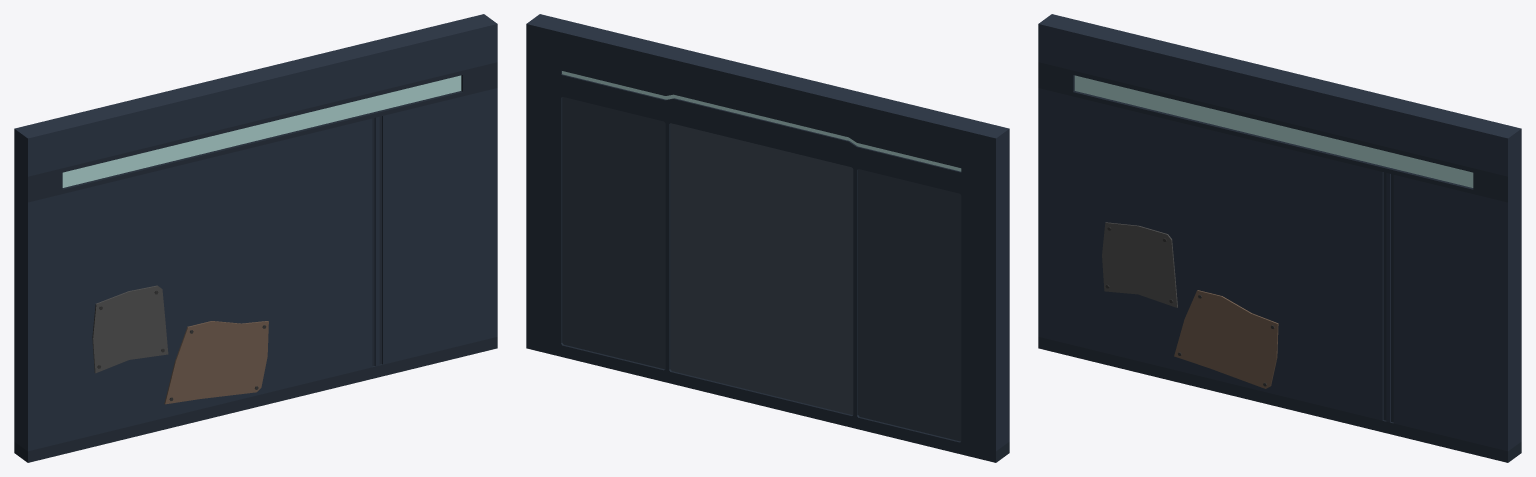
File: SM_BuildingPart_23.fbx
The picture shows the model from 3 angles, left to right: view 1: azimuth 30°, elevation 25°; view 2: azimuth 150°, elevation 25°; view 3: azimuth 330°, elevation 25°; orthographic projection.
Visible parts, largest first — view 1: SM_BuildingPart_23; view 2: SM_BuildingPart_23; view 3: SM_BuildingPart_23.
Boxes of the visible parts, <box> form: SM_BuildingPart_23: <box>14,14,497,462</box>; SM_BuildingPart_23: <box>526,14,1009,462</box>; SM_BuildingPart_23: <box>1038,14,1521,462</box>.
Bounding box in the file's own units: 500 × 330 × 27.48.
